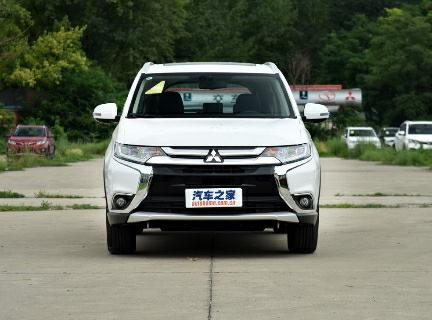三菱-欧蓝德: (86, 54, 332, 263)
